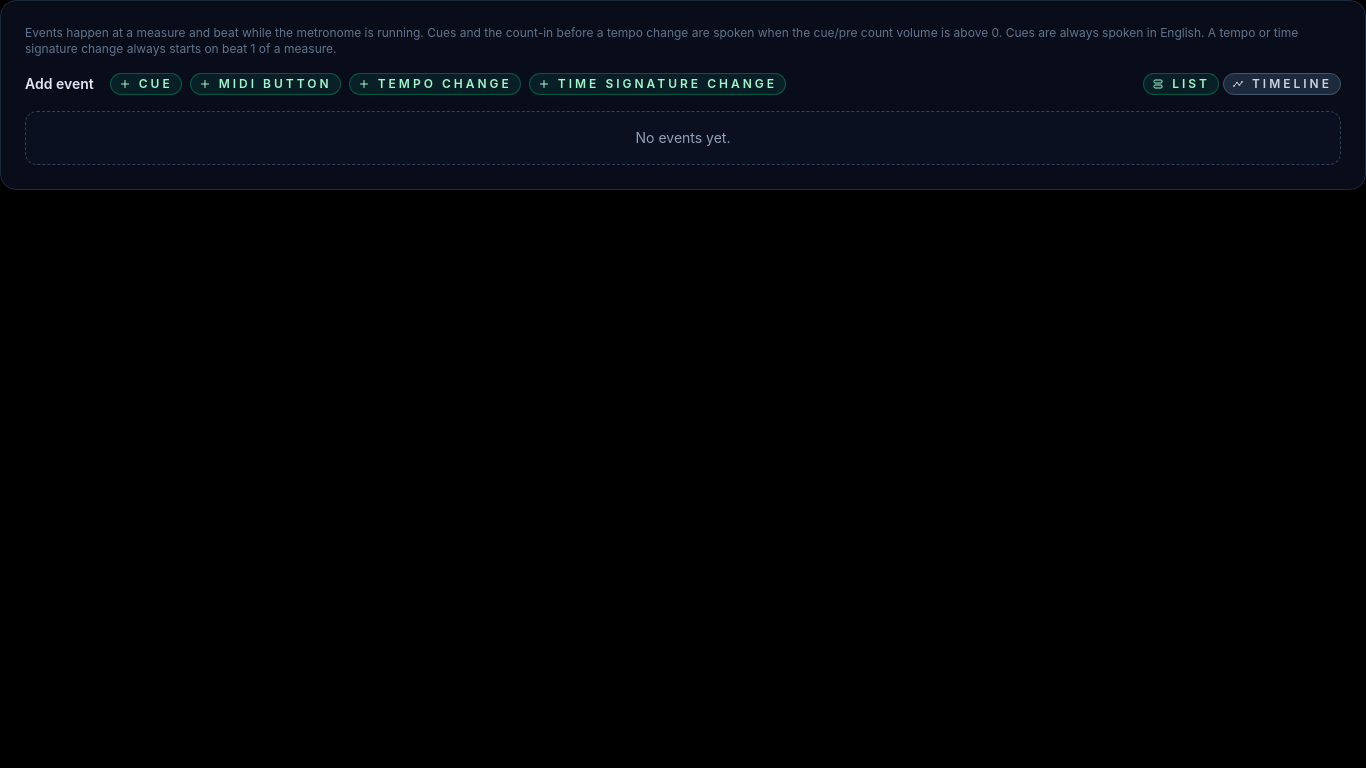
Test case: EventsTab › timeline view › opens the editor in a dialog for a selected beat and adds an event
Click the button "Timeline".
click(1282, 84)  # box 1223,73 -> 1341,95
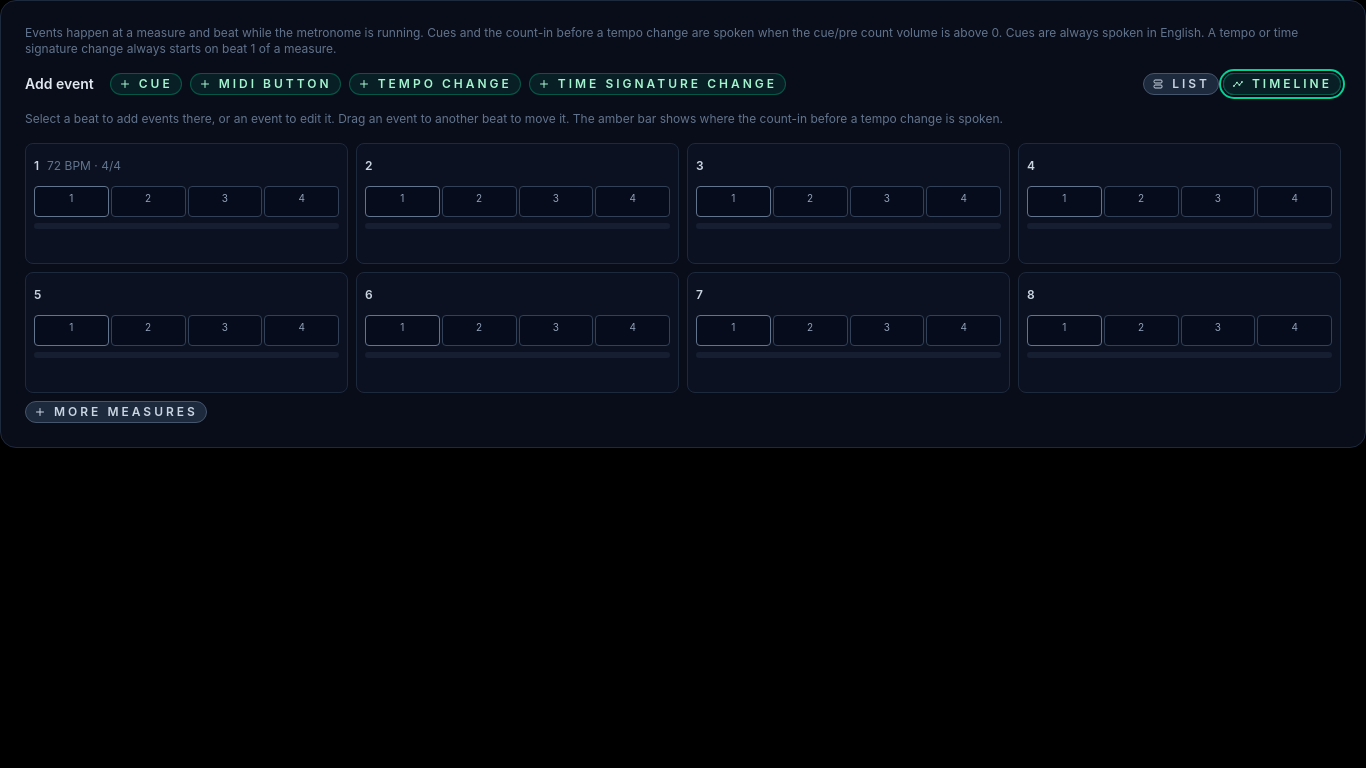
Click the button named "Select measure 2, beat 3".
click(556, 202)  # box 518,186 -> 593,217
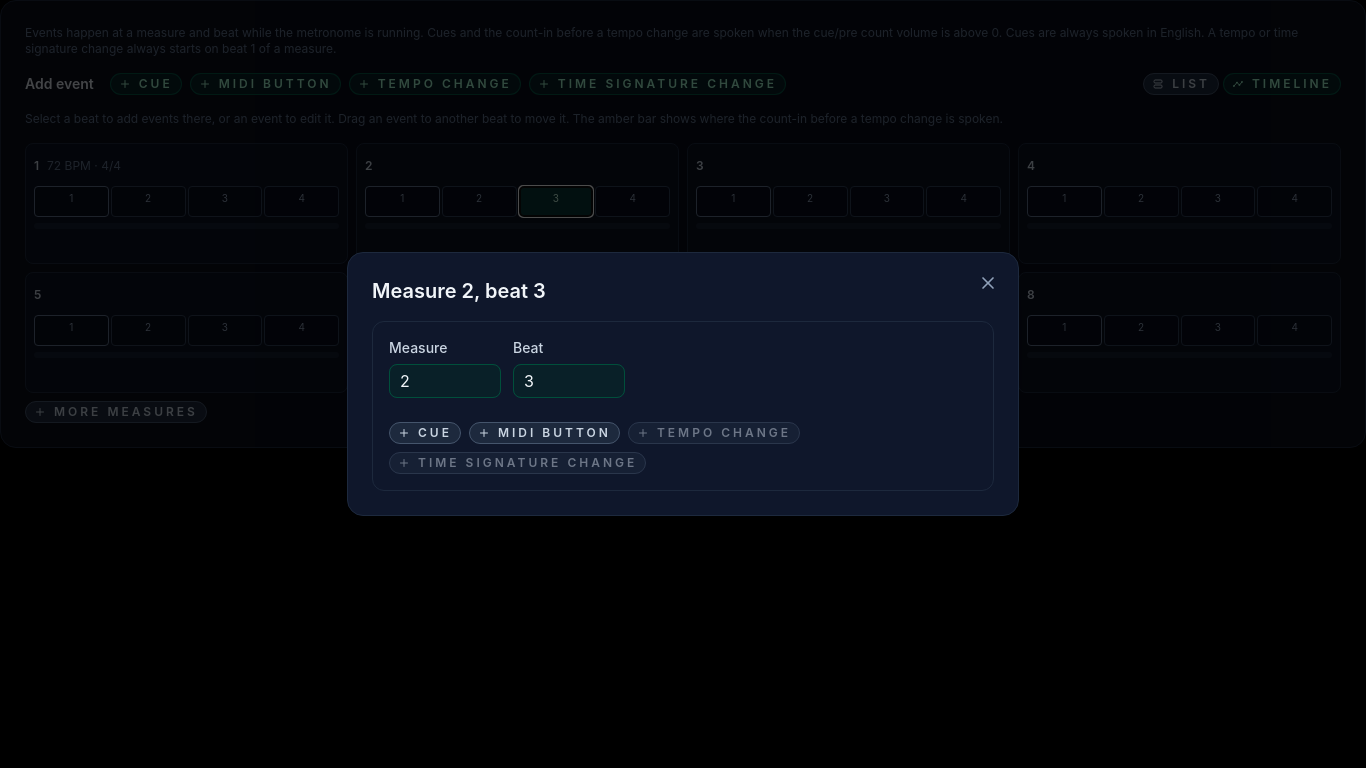
expect the heading "Measure 2, beat 3" is shown: met, box 372,279 -> 546,303
Click the button with aria-label "Add cue to measure 2, beat 3".
click(425, 433)  # box 389,422 -> 461,444
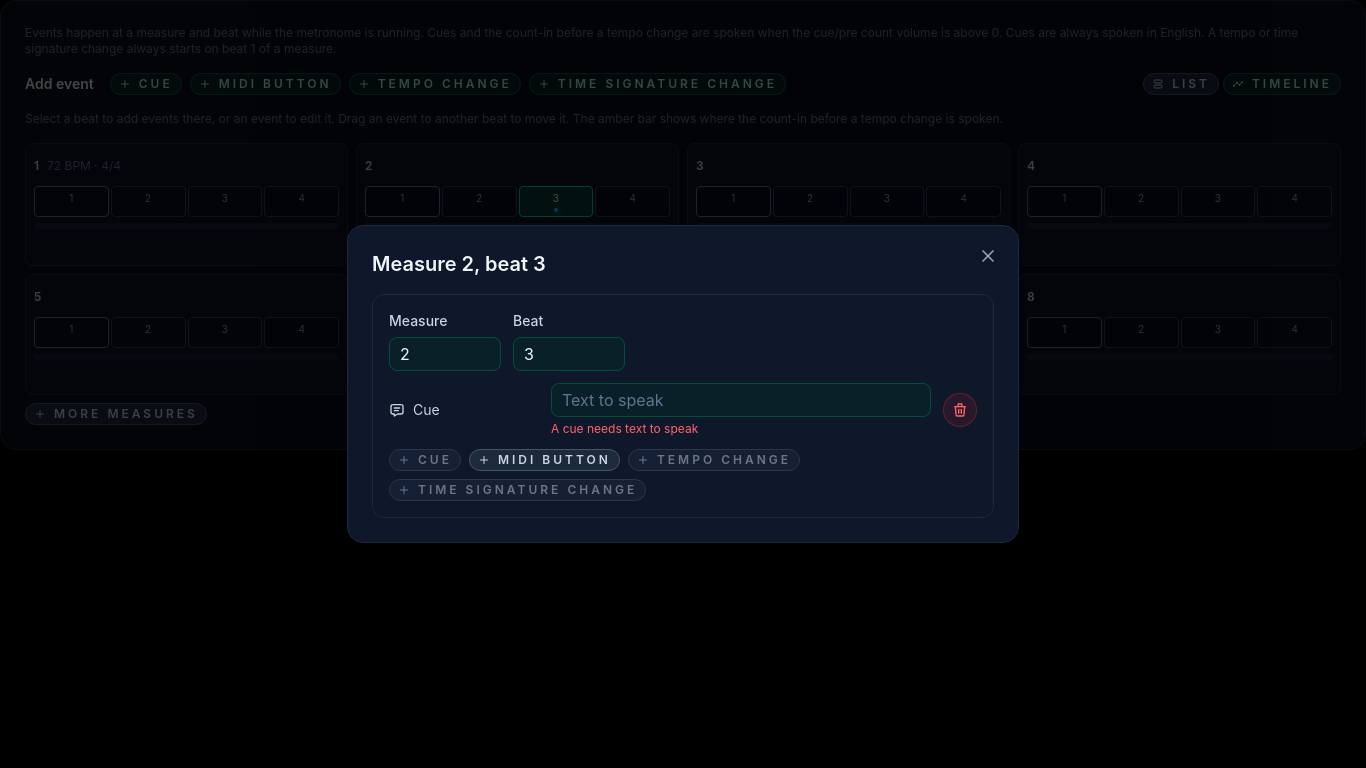
Type "Break" into the field named "Cue text".
click(741, 400); type("Break")  # box 551,383 -> 931,417
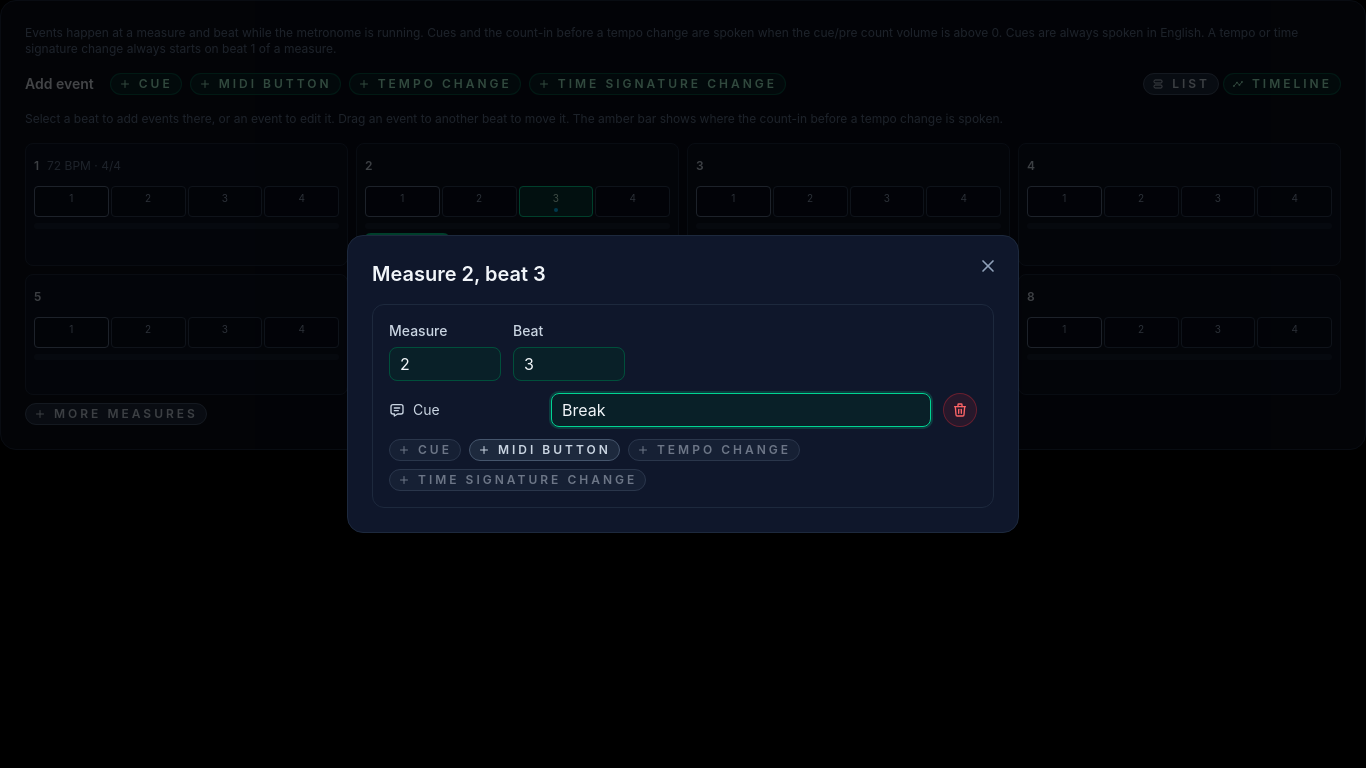
expect the button "3 · Break" is shown: met, box 365,235 -> 449,257
